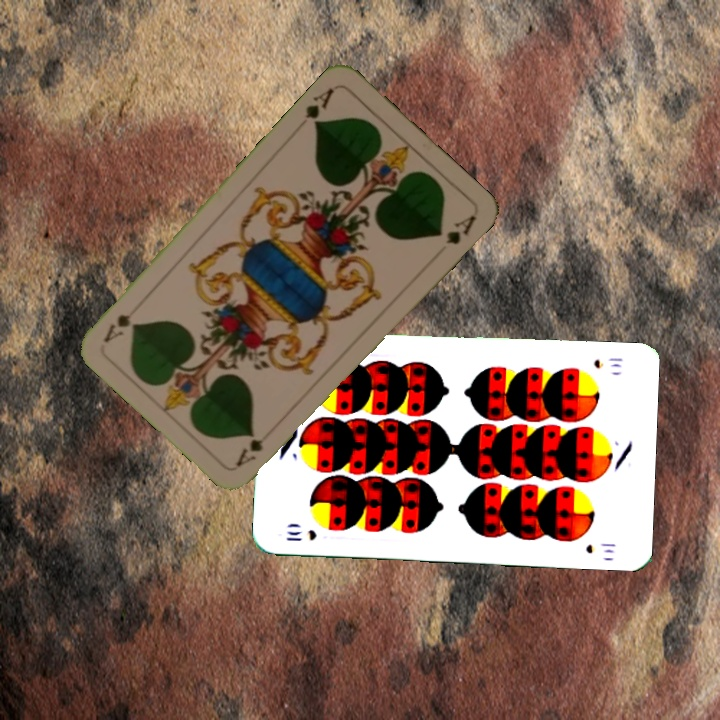GA: (232, 422, 278, 470), (301, 83, 337, 130)
S10: (282, 526, 319, 544), (590, 353, 625, 371)
